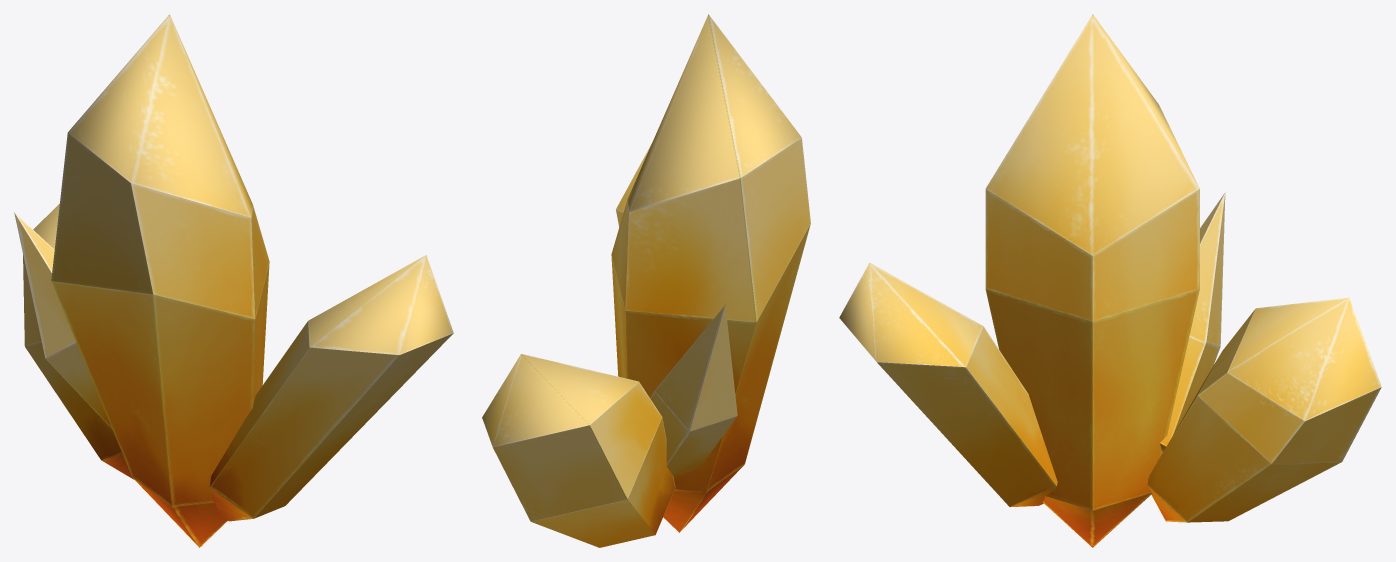
File: BaseTierCrystalModel.fbx
The picture shows the model from 3 angles, left to right: view 1: azimuth 30°, elevation 25°; view 2: azimuth 150°, elevation 25°; view 3: azimuth 270°, elevation 25°; orthographic projection. The views are drawn at different scales.
Parts seen in each view (by area): view 1: pCylinder7; view 2: pCylinder7; view 3: pCylinder7.
Part boxes in pixels (<box>): pCylinder7: <box>14,14,453,547</box>; pCylinder7: <box>482,14,810,547</box>; pCylinder7: <box>839,14,1381,547</box>.
Size of the model in its own units: 2.54 by 5.09 by 4.81.
Materials: 1 (1 with a texture image).
